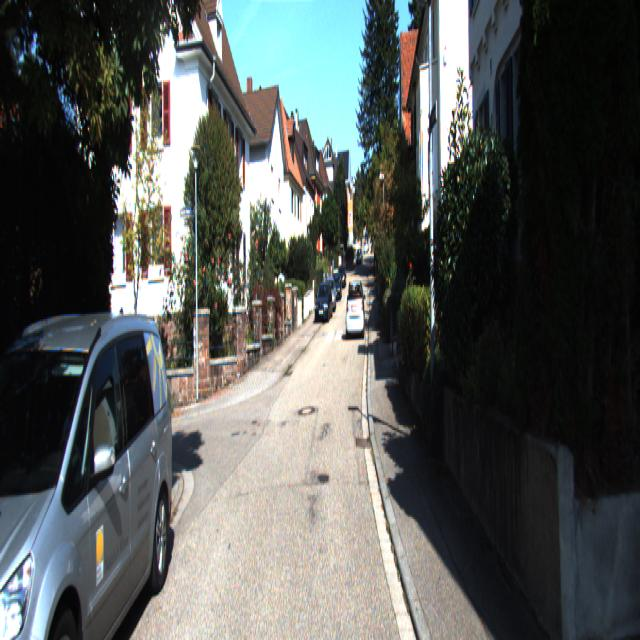Car: (0, 319, 180, 638), (345, 277, 366, 339), (313, 284, 334, 324)
DontCare: (329, 229, 373, 265)
